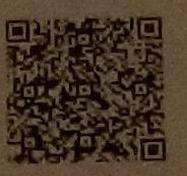qrcode: (6, 17, 167, 165)
